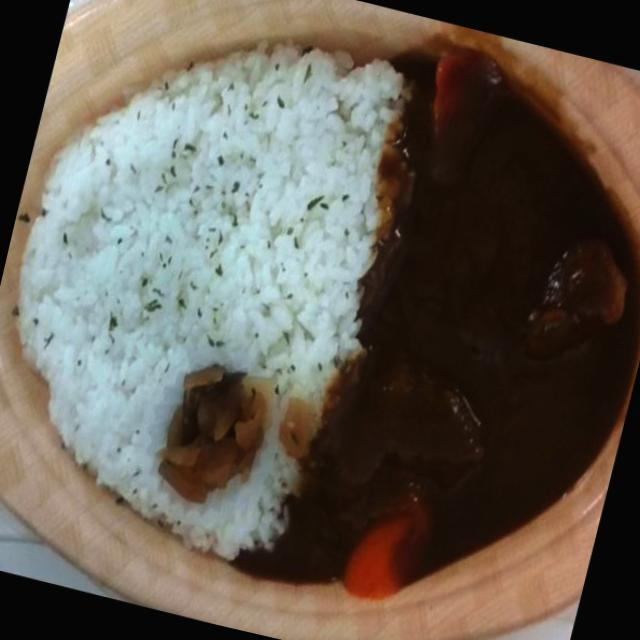Beef Curry: (278, 36, 640, 640)
Rice: (0, 0, 406, 567)
